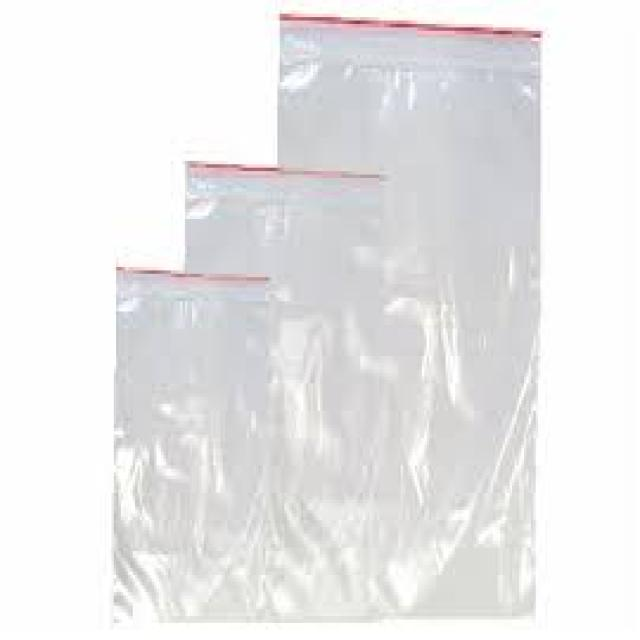plastic: (275, 4, 540, 613), (180, 154, 401, 619), (107, 263, 268, 623)
